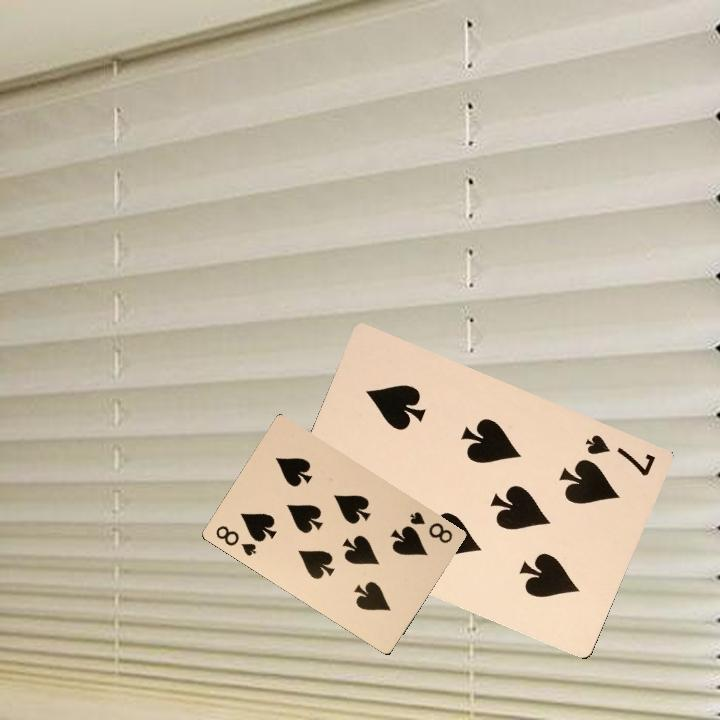7s: (581, 430, 659, 479)
8s: (405, 507, 455, 546), (211, 521, 259, 559)
